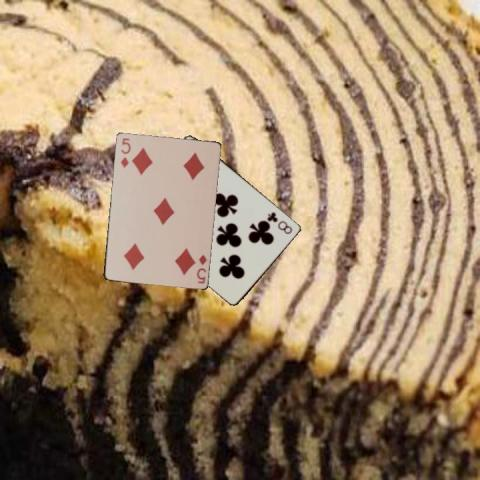5d: (117, 135, 132, 169), (193, 251, 208, 285)
8c: (265, 209, 294, 235)
